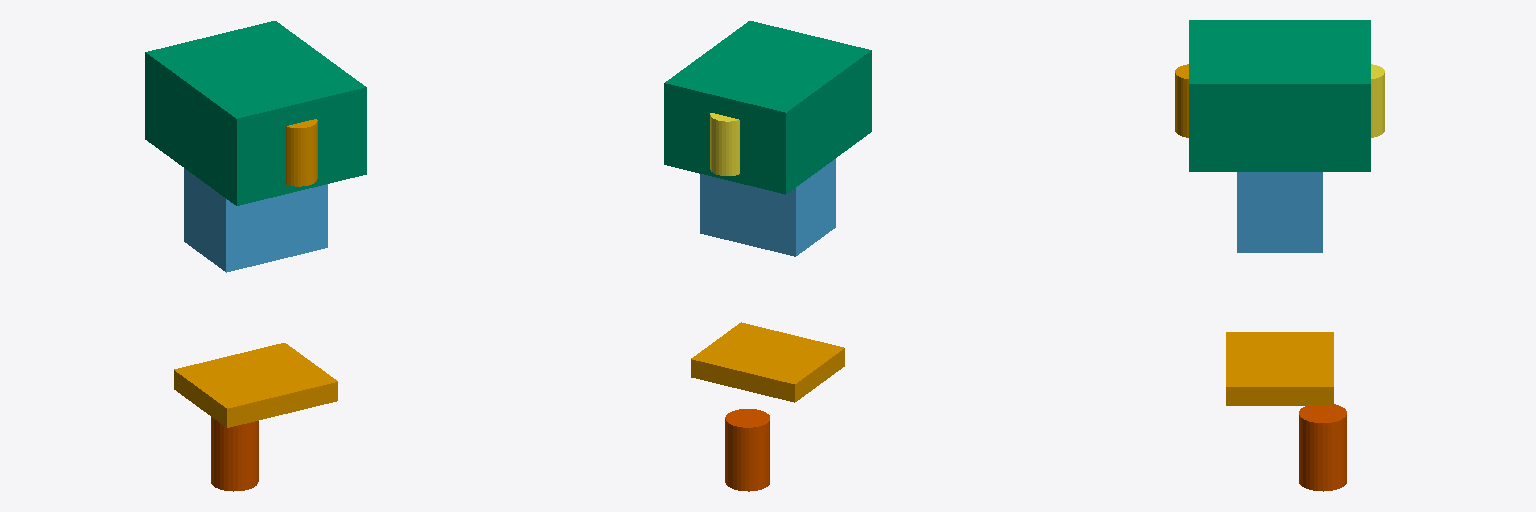
URDF robot description (noetix_e1_lab_01):
<?xml version="1.0"?>
<robot name="noetix_e1_lab_01">
  <link name="base_link">
    <visual>
      <origin xyz="0 0 0" rpy="0 0 0"/>
      <geometry>
        <mesh filename="meshes/base.obj" scale="1 1 1"/>
      </geometry>
    </visual>
  </link>
  <link name="torso_link">
    <visual>
      <origin xyz="0 0 0.08" rpy="0 0 0"/>
      <geometry>
        <box size="0.22 0.16 0.18"/>
      </geometry>
    </visual>
  </link>
  <joint name="waist_1_joint" type="revolute">
    <parent link="base_link"/>
    <child link="torso_link"/>
    <origin xyz="0 0 0.32" rpy="0 0 0"/>
    <axis xyz="0 0 1"/>
    <limit lower="-0.8" upper="0.8" effort="80" velocity="2.0"/>
  </joint>
  <link name="chest_link">
    <visual>
      <origin xyz="0 0 0.08" rpy="0 0 0"/>
      <geometry>
        <box size="0.28 0.34 0.18"/>
      </geometry>
    </visual>
  </link>
  <joint name="waist_2_joint" type="revolute">
    <parent link="torso_link"/>
    <child link="chest_link"/>
    <origin xyz="0 0 0.18" rpy="0 0 0"/>
    <axis xyz="0 1 0"/>
    <limit lower="-0.5" upper="0.5" effort="80" velocity="2.0"/>
  </joint>
  <link name="left_arm_1">
    <visual>
      <origin xyz="0 0 -0.05" rpy="0 0 0"/>
      <geometry>
        <cylinder radius="0.035" length="0.12"/>
      </geometry>
    </visual>
  </link>
  <joint name="arm_l1_joint" type="revolute">
    <parent link="chest_link"/>
    <child link="left_arm_1"/>
    <origin xyz="0 0.16 0.12" rpy="0 0 0"/>
    <axis xyz="0 1 0"/>
    <limit lower="-1.8" upper="1.8" effort="45" velocity="3.0"/>
  </joint>
  <link name="left_arm_2"/>
  <joint name="arm_l2_joint" type="revolute">
    <parent link="left_arm_1"/>
    <child link="left_arm_2"/>
    <origin xyz="0 0.10 -0.10" rpy="0 0 0"/>
    <axis xyz="1 0 0"/>
    <limit lower="-1.6" upper="1.6" effort="45" velocity="3.0"/>
  </joint>
  <link name="left_arm_3"/>
  <joint name="arm_l3_joint" type="revolute">
    <parent link="left_arm_2"/>
    <child link="left_arm_3"/>
    <origin xyz="0 0 -0.16" rpy="0 0 0"/>
    <axis xyz="0 0 1"/>
    <limit lower="-1.8" upper="1.8" effort="35" velocity="3.0"/>
  </joint>
  <link name="left_arm_4"/>
  <joint name="arm_l4_joint" type="revolute">
    <parent link="left_arm_3"/>
    <child link="left_arm_4"/>
    <origin xyz="0 0 -0.15" rpy="0 0 0"/>
    <axis xyz="0 1 0"/>
    <limit lower="-1.6" upper="1.6" effort="30" velocity="3.0"/>
  </joint>
  <link name="left_hand"/>
  <joint name="arm_l5_joint" type="revolute">
    <parent link="left_arm_4"/>
    <child link="left_hand"/>
    <origin xyz="0 0 -0.12" rpy="0 0 0"/>
    <axis xyz="1 0 0"/>
    <limit lower="-1.2" upper="1.2" effort="20" velocity="3.0"/>
  </joint>
  <link name="right_arm_1">
    <visual>
      <origin xyz="0 0 -0.05" rpy="0 0 0"/>
      <geometry>
        <cylinder radius="0.035" length="0.12"/>
      </geometry>
    </visual>
  </link>
  <joint name="arm_r1_joint" type="revolute">
    <parent link="chest_link"/>
    <child link="right_arm_1"/>
    <origin xyz="0 -0.16 0.12" rpy="0 0 0"/>
    <axis xyz="0 1 0"/>
    <limit lower="-1.8" upper="1.8" effort="45" velocity="3.0"/>
  </joint>
  <link name="right_arm_2"/>
  <joint name="arm_r2_joint" type="revolute">
    <parent link="right_arm_1"/>
    <child link="right_arm_2"/>
    <origin xyz="0 -0.10 -0.10" rpy="0 0 0"/>
    <axis xyz="1 0 0"/>
    <limit lower="-1.6" upper="1.6" effort="45" velocity="3.0"/>
  </joint>
  <link name="right_arm_3"/>
  <joint name="arm_r3_joint" type="revolute">
    <parent link="right_arm_2"/>
    <child link="right_arm_3"/>
    <origin xyz="0 0 -0.16" rpy="0 0 0"/>
    <axis xyz="0 0 1"/>
    <limit lower="-1.8" upper="1.8" effort="35" velocity="3.0"/>
  </joint>
  <link name="right_arm_4"/>
  <joint name="arm_r4_joint" type="revolute">
    <parent link="right_arm_3"/>
    <child link="right_arm_4"/>
    <origin xyz="0 0 -0.15" rpy="0 0 0"/>
    <axis xyz="0 1 0"/>
    <limit lower="-1.6" upper="1.6" effort="30" velocity="3.0"/>
  </joint>
  <link name="right_hand"/>
  <joint name="arm_r5_joint" type="revolute">
    <parent link="right_arm_4"/>
    <child link="right_hand"/>
    <origin xyz="0 0 -0.12" rpy="0 0 0"/>
    <axis xyz="1 0 0"/>
    <limit lower="-1.2" upper="1.2" effort="20" velocity="3.0"/>
  </joint>
  <link name="left_leg_1">
    <visual>
      <origin xyz="0 0 -0.06" rpy="0 0 0"/>
      <geometry>
        <cylinder radius="0.045" length="0.14"/>
      </geometry>
    </visual>
  </link>
  <joint name="leg_l1_joint" type="revolute">
    <parent link="base_link"/>
    <child link="left_leg_1"/>
    <origin xyz="0 0.08 -0.08" rpy="0 0 0"/>
    <axis xyz="0 1 0"/>
    <limit lower="-1.2" upper="1.2" effort="90" velocity="3.0"/>
  </joint>
  <link name="left_leg_2"/>
  <joint name="leg_l2_joint" type="revolute">
    <parent link="left_leg_1"/>
    <child link="left_leg_2"/>
    <origin xyz="0 0 -0.16" rpy="0 0 0"/>
    <axis xyz="1 0 0"/>
    <limit lower="-0.9" upper="0.9" effort="90" velocity="3.0"/>
  </joint>
  <link name="left_leg_3"/>
  <joint name="leg_l3_joint" type="revolute">
    <parent link="left_leg_2"/>
    <child link="left_leg_3"/>
    <origin xyz="0 0 -0.16" rpy="0 0 0"/>
    <axis xyz="0 1 0"/>
    <limit lower="-1.6" upper="1.6" effort="100" velocity="3.0"/>
  </joint>
  <link name="left_leg_4"/>
  <joint name="leg_l4_joint" type="revolute">
    <parent link="left_leg_3"/>
    <child link="left_leg_4"/>
    <origin xyz="0 0 -0.18" rpy="0 0 0"/>
    <axis xyz="0 1 0"/>
    <limit lower="-1.8" upper="1.8" effort="100" velocity="3.0"/>
  </joint>
  <link name="left_leg_5"/>
  <joint name="leg_l5_joint" type="revolute">
    <parent link="left_leg_4"/>
    <child link="left_leg_5"/>
    <origin xyz="0 0 -0.16" rpy="0 0 0"/>
    <axis xyz="1 0 0"/>
    <limit lower="-0.8" upper="0.8" effort="80" velocity="3.0"/>
  </joint>
  <link name="left_foot"/>
  <joint name="leg_l6_joint" type="revolute">
    <parent link="left_leg_5"/>
    <child link="left_foot"/>
    <origin xyz="0.04 0 -0.08" rpy="0 0 0"/>
    <axis xyz="0 1 0"/>
    <limit lower="-0.8" upper="0.8" effort="80" velocity="3.0"/>
  </joint>
  <link name="right_leg_1"/>
  <joint name="leg_r1_joint" type="revolute">
    <parent link="base_link"/>
    <child link="right_leg_1"/>
    <origin xyz="0 -0.08 -0.08" rpy="0 0 0"/>
    <axis xyz="0 1 0"/>
    <limit lower="-1.2" upper="1.2" effort="90" velocity="3.0"/>
  </joint>
  <link name="right_leg_2"/>
  <joint name="leg_r2_joint" type="revolute">
    <parent link="right_leg_1"/>
    <child link="right_leg_2"/>
    <origin xyz="0 0 -0.16" rpy="0 0 0"/>
    <axis xyz="1 0 0"/>
    <limit lower="-0.9" upper="0.9" effort="90" velocity="3.0"/>
  </joint>
  <link name="right_leg_3"/>
  <joint name="leg_r3_joint" type="revolute">
    <parent link="right_leg_2"/>
    <child link="right_leg_3"/>
    <origin xyz="0 0 -0.16" rpy="0 0 0"/>
    <axis xyz="0 1 0"/>
    <limit lower="-1.6" upper="1.6" effort="100" velocity="3.0"/>
  </joint>
  <link name="right_leg_4"/>
  <joint name="leg_r4_joint" type="revolute">
    <parent link="right_leg_3"/>
    <child link="right_leg_4"/>
    <origin xyz="0 0 -0.18" rpy="0 0 0"/>
    <axis xyz="0 1 0"/>
    <limit lower="-1.8" upper="1.8" effort="100" velocity="3.0"/>
  </joint>
  <link name="right_leg_5"/>
  <joint name="leg_r5_joint" type="revolute">
    <parent link="right_leg_4"/>
    <child link="right_leg_5"/>
    <origin xyz="0 0 -0.16" rpy="0 0 0"/>
    <axis xyz="1 0 0"/>
    <limit lower="-0.8" upper="0.8" effort="80" velocity="3.0"/>
  </joint>
  <link name="right_foot"/>
  <joint name="leg_r6_joint" type="revolute">
    <parent link="right_leg_5"/>
    <child link="right_foot"/>
    <origin xyz="0.04 0 -0.08" rpy="0 0 0"/>
    <axis xyz="0 1 0"/>
    <limit lower="-0.8" upper="0.8" effort="80" velocity="3.0"/>
  </joint>
</robot>

--- Render facts (derived) ---
Views: 3 orthographic renders of the robot side by side, from view 1: azimuth 30°, elevation 25°; view 2: azimuth 150°, elevation 25°; view 3: azimuth 270°, elevation 25°.
Model noetix_e1_lab_01 with 25 links and 24 joints (24 revolute), rooted at base_link, posed all joints at 0.
Visible links, largest first — view 1: chest_link, torso_link, base_link, left_leg_1, right_arm_1; view 2: chest_link, torso_link, base_link, left_leg_1, left_arm_1; view 3: chest_link, base_link, torso_link, left_leg_1, left_arm_1, right_arm_1.
Link boxes in pixels (left/top/right/bottom): chest_link: left=145, top=21, right=366, bottom=205; torso_link: left=184, top=168, right=327, bottom=272; base_link: left=174, top=343, right=337, bottom=427; left_leg_1: left=211, top=417, right=258, bottom=491; right_arm_1: left=286, top=119, right=317, bottom=186; chest_link: left=664, top=21, right=871, bottom=194; torso_link: left=700, top=159, right=835, bottom=256; base_link: left=691, top=322, right=844, bottom=402; left_leg_1: left=725, top=409, right=769, bottom=491; left_arm_1: left=710, top=113, right=739, bottom=175; chest_link: left=1189, top=20, right=1370, bottom=171; base_link: left=1226, top=332, right=1333, bottom=405; torso_link: left=1237, top=172, right=1322, bottom=252; left_leg_1: left=1299, top=404, right=1346, bottom=491; left_arm_1: left=1371, top=64, right=1384, bottom=137; right_arm_1: left=1175, top=64, right=1188, bottom=137.
Size in the robot's own frame: 0.28 by 0.39 by 0.88 metres.
Meshes: 1 distinct files referenced, 1 mesh visuals loaded (1 OBJ).
